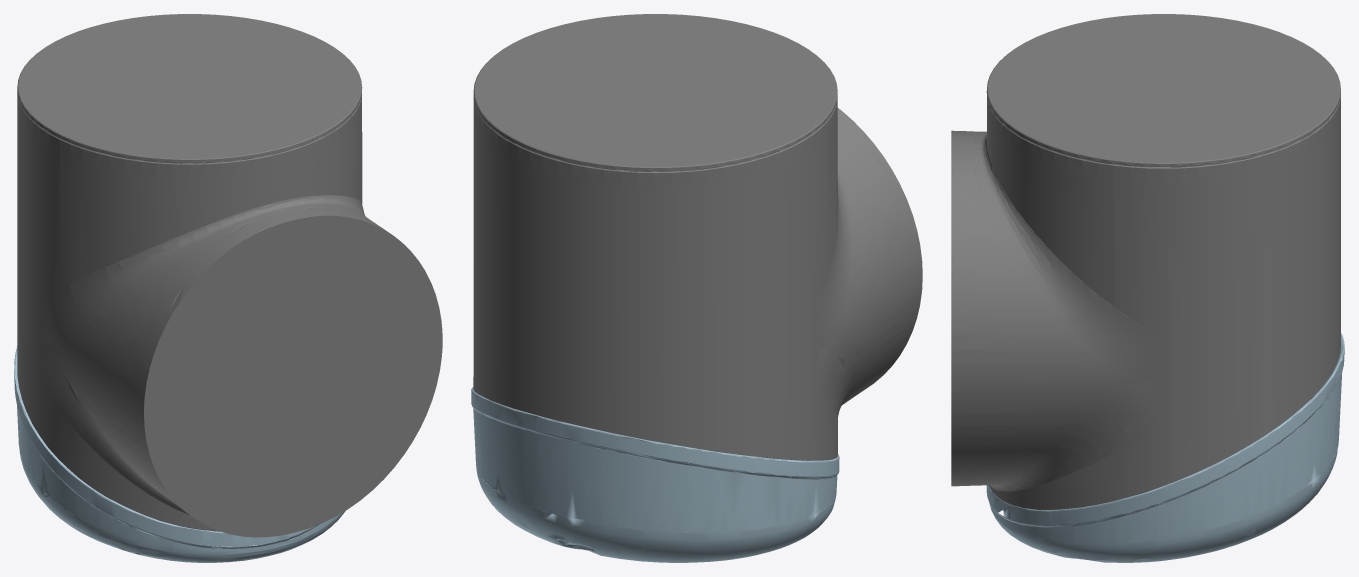
The model's file is wrist1.gltf.
The picture shows the model from 3 angles, left to right: view 1: azimuth 30°, elevation 25°; view 2: azimuth 150°, elevation 25°; view 3: azimuth 270°, elevation 25°; orthographic projection. The views are drawn at different scales.
Parts seen in each view (by area): view 1: node-shape0-name, shape1_001-mesh_1; view 2: node-shape0-name, shape1_001-mesh_1; view 3: node-shape0-name, shape1_001-mesh_1.
Part boxes in pixels (x1,y1,x2,y2): node-shape0-name: (17, 14, 442, 537); shape1_001-mesh_1: (14, 346, 345, 562); node-shape0-name: (473, 14, 922, 460); shape1_001-mesh_1: (471, 387, 839, 562); node-shape0-name: (951, 14, 1340, 509); shape1_001-mesh_1: (986, 333, 1344, 562).
Bounding box in the file's own units: 0.091 × 0.1188 × 0.0999.
